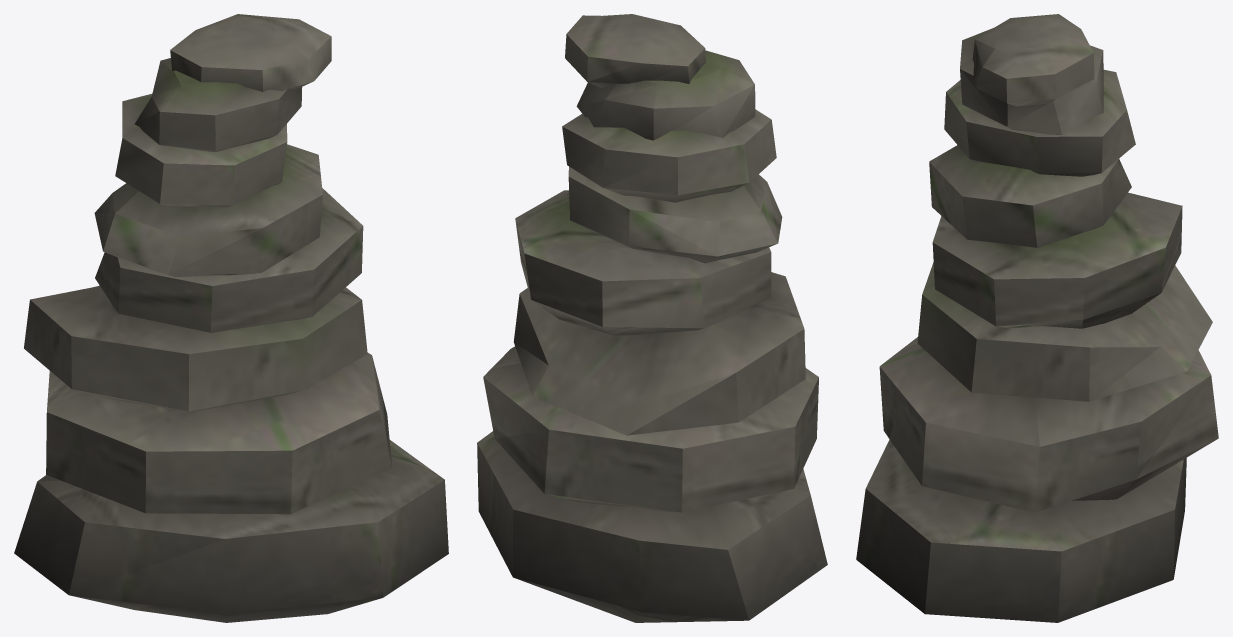
File: cairn_small.glb
3 views of the same model, side by side, from view 1: azimuth 30°, elevation 25°; view 2: azimuth 150°, elevation 25°; view 3: azimuth 270°, elevation 25° (orthographic). The views are drawn at different scales.
Visible parts, largest first — view 1: cairn_small; view 2: cairn_small; view 3: cairn_small.
Boxes of the visible parts, bbox=[...] form: cairn_small: bbox=[14, 14, 448, 622]; cairn_small: bbox=[477, 14, 827, 622]; cairn_small: bbox=[856, 14, 1218, 622].
Bounding box in the file's own units: 0.7035 × 1.1 × 0.661.
1 material, 1 textured.
